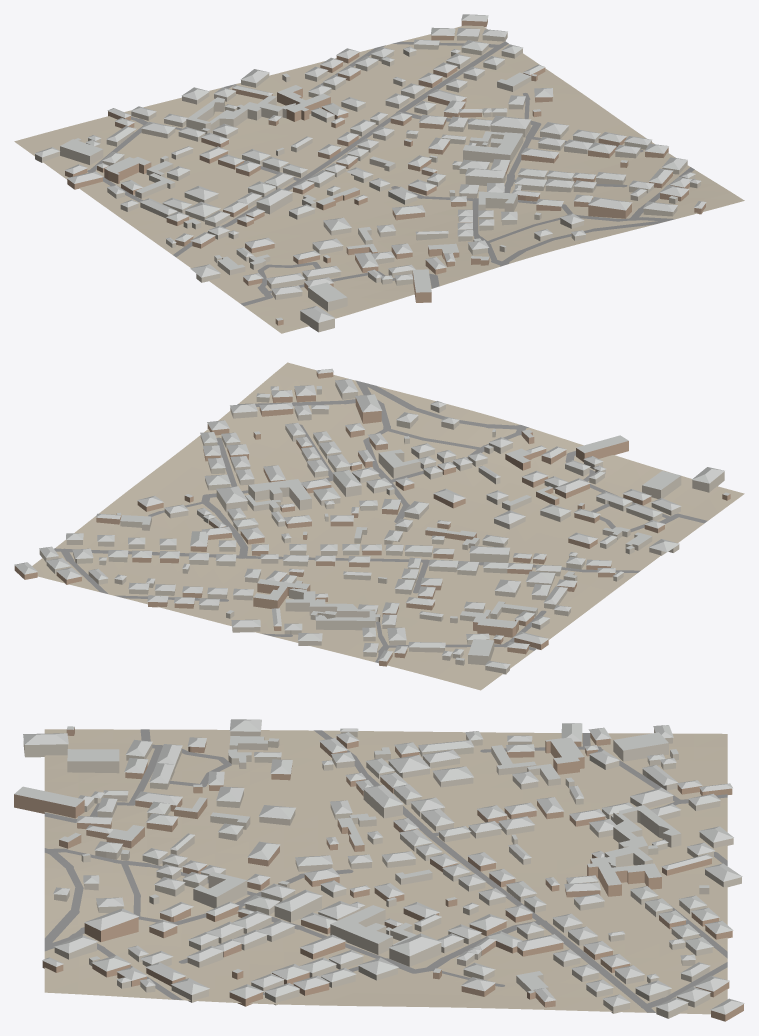
The model's file is bolak_5_-9.glb.
The picture shows the model from 3 angles, top to bottom: view 1: azimuth 30°, elevation 25°; view 2: azimuth 150°, elevation 25°; view 3: azimuth 270°, elevation 25°; orthographic projection. The views are drawn at different scales.
Parts seen in each view (by area): view 1: Yer_Tuproq-col, Tom_Shifer, Devor_Suvoq-col, Devor_Gisht-col, Yol_Mahalla-col; view 2: Yer_Tuproq-col, Tom_Shifer, Devor_Suvoq-col, Devor_Gisht-col, Yol_Mahalla-col; view 3: Yer_Tuproq-col, Tom_Shifer, Devor_Suvoq-col, Devor_Gisht-col, Yol_Mahalla-col.
Part boxes in pixels (x1,y1,x2,y2): Yer_Tuproq-col: (14,25,744,333); Tom_Shifer: (34,14,706,322); Devor_Suvoq-col: (35,32,700,332); Devor_Gisht-col: (65,19,705,325); Yol_Mahalla-col: (87,41,694,305); Yer_Tuproq-col: (32,362,744,690); Tom_Shifer: (14,368,729,668); Devor_Suvoq-col: (39,382,724,674); Devor_Gisht-col: (14,372,730,666); Yol_Mahalla-col: (54,380,707,662); Yer_Tuproq-col: (44,729,727,1014); Tom_Shifer: (14,719,744,1014); Devor_Suvoq-col: (23,729,741,1018); Devor_Gisht-col: (14,727,743,1021); Yol_Mahalla-col: (44,729,727,1012).
Size of what is drawn, in the model's own units: 415 by 26.17 by 428.
